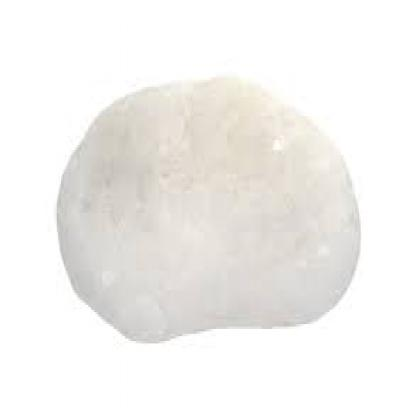Metamorphic_Marble: (51, 70, 368, 348)
